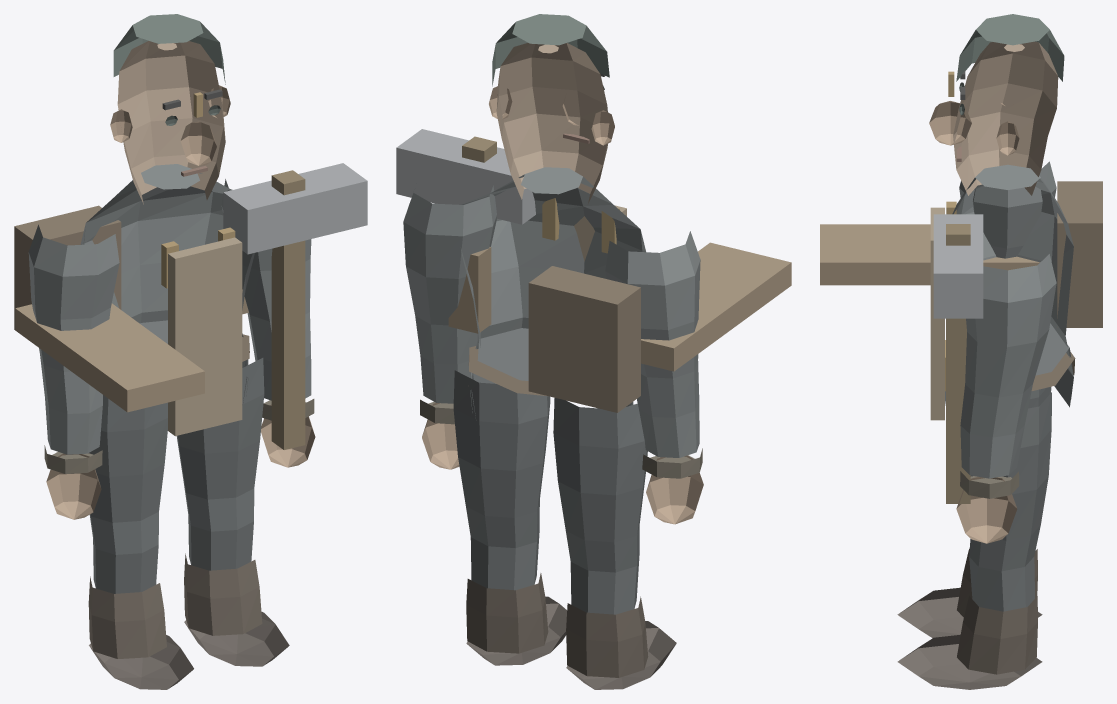
Rendered from industrial_builder_1000_2.glb.
The picture shows the model from 3 angles, left to right: view 1: azimuth 30°, elevation 25°; view 2: azimuth 150°, elevation 25°; view 3: azimuth 270°, elevation 25°; orthographic projection. The views are drawn at different scales.
Visible parts, largest first — view 1: body_7, leftLeg_0, leftArm_0, rightLeg_0, body_0, head_0, leftArm_3, rightArm_4, rightArm_3, leftLeg_1, rightLeg_1, rightArm_0 (+9 smaller); view 2: leftLeg_0, rightLeg_0, body_8, head_0, body_0, rightArm_0, leftArm_0, leftArm_3, rightArm_4, rightLeg_1, leftLeg_1, head_9 (+12 smaller); view 3: rightArm_0, head_0, rightLeg_0, leftArm_3, body_8, body_0, rightLeg_1, rightArm_4, leftArm_0, rightArm_3, rightLeg_2, head_9 (+9 smaller).
Part boxes in pixels (x1,y1,x2,y2): body_7: [168, 237, 242, 436]; leftLeg_0: [88, 395, 167, 593]; leftArm_0: [28, 224, 119, 454]; rightLeg_0: [176, 358, 264, 570]; body_0: [80, 164, 254, 396]; head_0: [117, 41, 225, 204]; leftArm_3: [15, 303, 204, 412]; rightArm_4: [223, 163, 367, 254]; rightArm_3: [271, 170, 305, 449]; leftLeg_1: [88, 576, 166, 658]; rightLeg_1: [184, 553, 262, 635]; rightArm_0: [221, 179, 311, 400]; leftLeg_0: [553, 398, 647, 614]; rightLeg_0: [453, 370, 550, 590]; body_8: [528, 266, 640, 412]; head_0: [496, 43, 607, 203]; body_0: [461, 167, 645, 412]; rightArm_0: [403, 185, 496, 403]; leftArm_0: [605, 231, 700, 457]; leftArm_3: [641, 242, 791, 371]; rightArm_4: [396, 129, 535, 224]; rightLeg_1: [466, 573, 548, 653]; leftLeg_1: [566, 596, 648, 677]; head_9: [492, 14, 609, 86]; rightArm_0: [960, 254, 1056, 478]; head_0: [953, 41, 1058, 195]; rightLeg_0: [969, 392, 1051, 611]; leftArm_3: [820, 224, 1039, 285]; body_8: [1057, 181, 1102, 327]; body_0: [952, 164, 1073, 398]; rightLeg_1: [957, 596, 1037, 674]; rightArm_4: [933, 214, 983, 318]; leftArm_0: [959, 161, 1056, 258]; rightArm_3: [946, 224, 970, 503]; rightLeg_2: [897, 634, 1042, 689]; head_9: [956, 14, 1064, 81].
Bounding box in the file's own units: 0.842 × 1.68 × 0.685.
